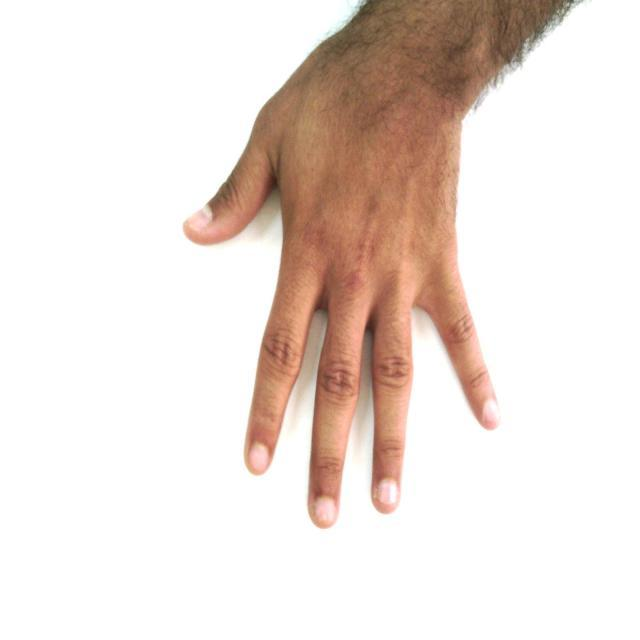Fingernail: (185, 207, 212, 232), (315, 497, 335, 524), (250, 444, 268, 472), (379, 479, 397, 505), (484, 401, 500, 427)
